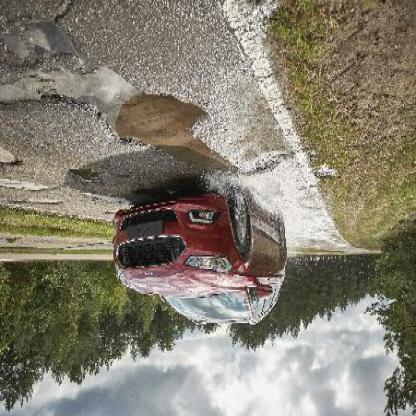pothole: (94, 93, 208, 150), (1, 179, 51, 195), (69, 170, 104, 187), (1, 148, 24, 170)
